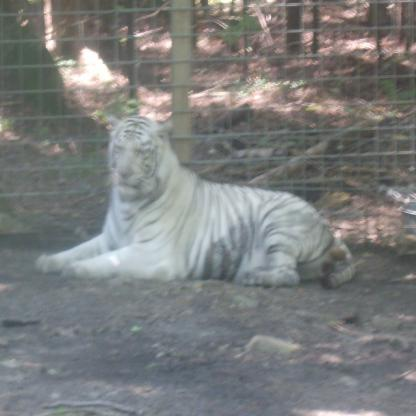Tiger: (35, 116, 356, 289)
